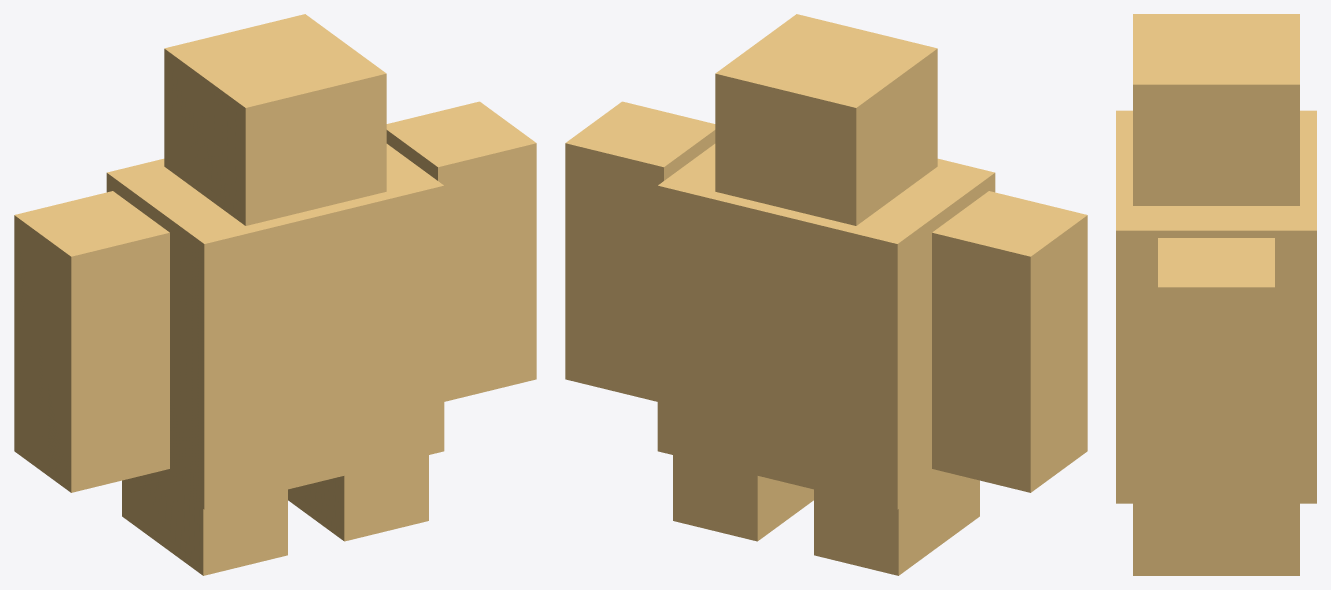
File: heavy.gltf
3 renders of one model, left to right at view 1: azimuth 30°, elevation 25°; view 2: azimuth 150°, elevation 25°; view 3: azimuth 270°, elevation 25°, orthographic. The views are drawn at different scales.
Parts seen in each view (by area): view 1: heavy; view 2: heavy; view 3: heavy.
Boxes of the visible parts, x1,y1,x2,y2 form: heavy: (14,14,536,575); heavy: (565,14,1087,575); heavy: (1116,14,1316,575).
Bounding box in the file's own units: 1.65 × 1.55 × 0.6.
